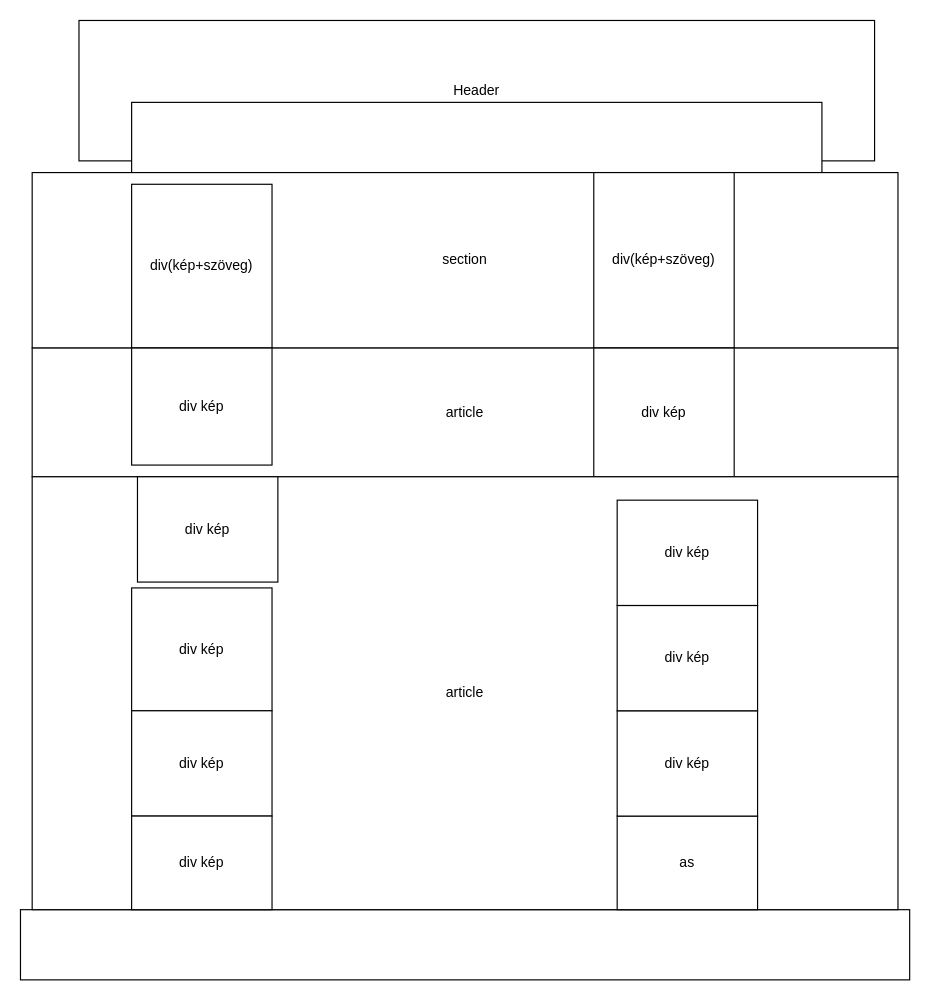
This 930x1000 diagram has some shape labels left out. Here are the shapes that lost their labels. From the top down, the centre of each, then its label:
point 476,137: nav
point 464,944: footer (fekete sok info)
